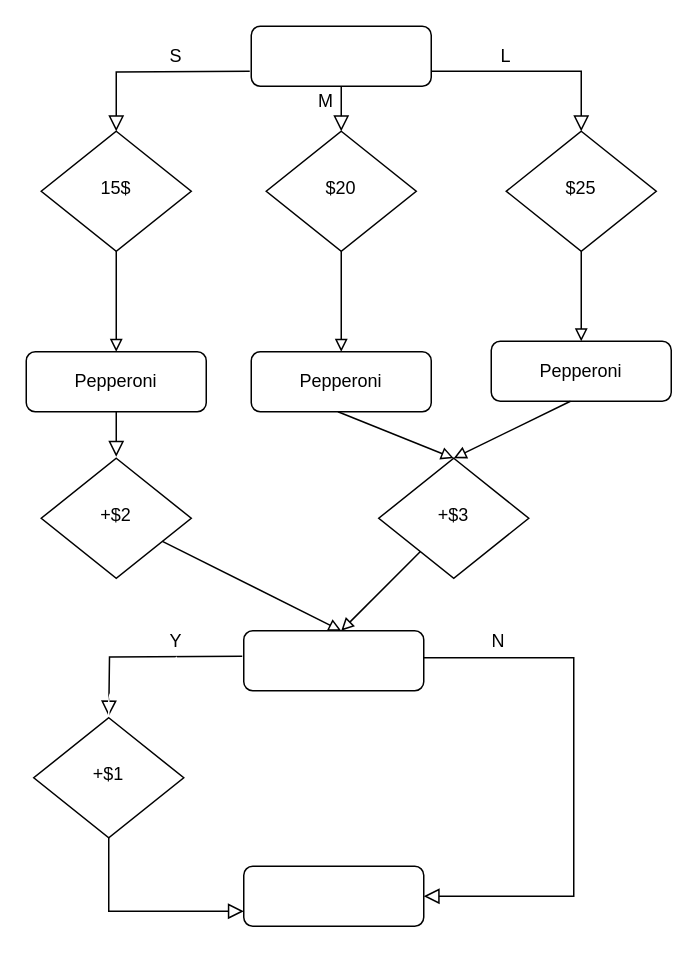
Image size: 698x953. Some labels were removed from this diagram. The box of each missing label's shape, as (x1, y1, x2, y2) in pixels:
Cheese: (242, 629, 424, 691)
Final bill: (242, 865, 424, 926)
Pizza size: (250, 25, 431, 86)
